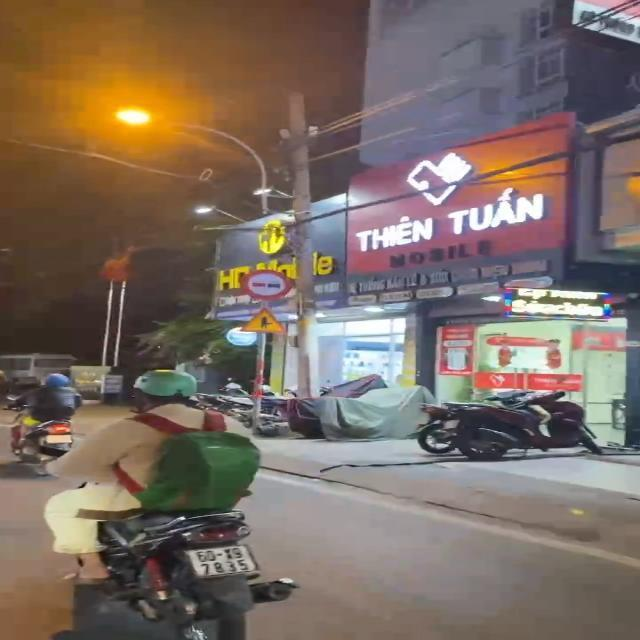125-cam-vuot: (239, 268, 292, 299)
207-giao-nhau-voi-duong-khong-uu-tien: (238, 308, 288, 334)
